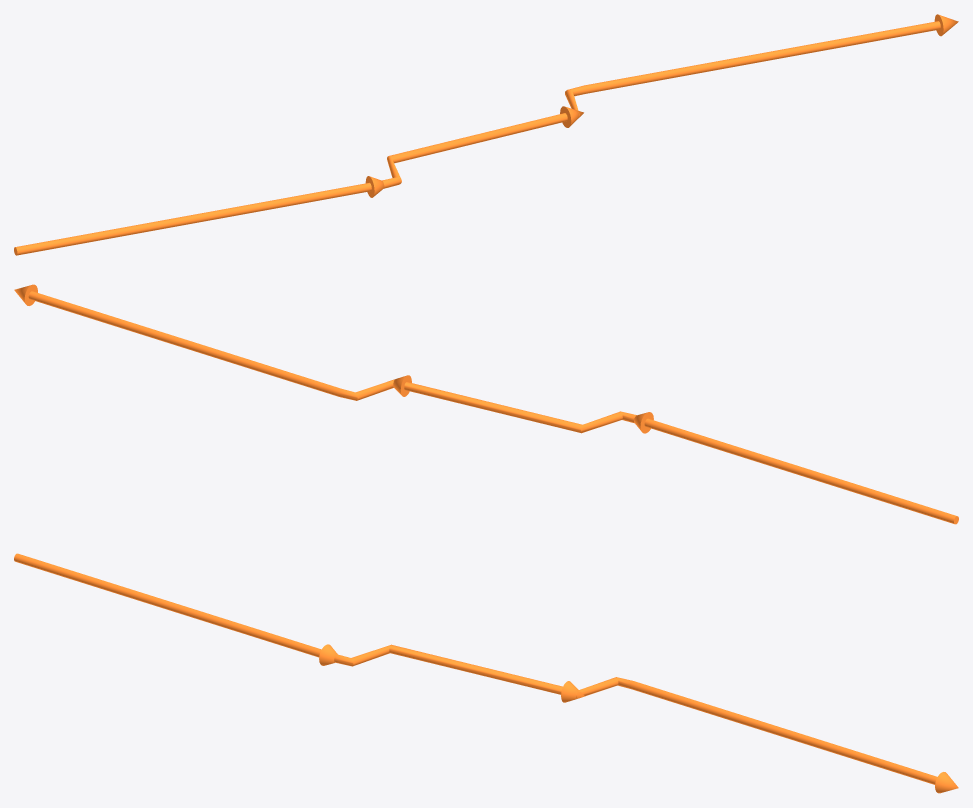
Rendered from silencer_flow.glb.
3 views of the same model, one above another, from view 1: azimuth 30°, elevation 25°; view 2: azimuth 150°, elevation 25°; view 3: azimuth 330°, elevation 25° (orthographic).
Visible parts, largest first — view 1: gas; view 2: gas; view 3: gas.
Part boxes in pixels (<box>): gas: <box>14,14,958,255</box>; gas: <box>14,284,958,524</box>; gas: <box>14,553,958,793</box>.
Bounding box in the file's own units: 3.03 × 0.0624 × 0.2987.
